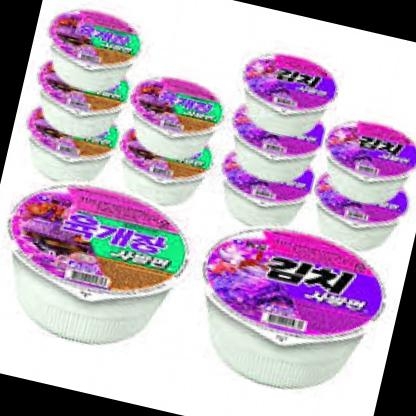Ramen: (181, 214, 400, 404), (0, 165, 202, 363), (233, 42, 354, 138), (298, 164, 416, 260), (215, 102, 336, 191), (16, 104, 132, 196), (212, 146, 320, 240), (121, 66, 235, 154), (110, 122, 219, 214), (318, 104, 416, 200), (29, 60, 136, 144), (45, 0, 146, 88)
